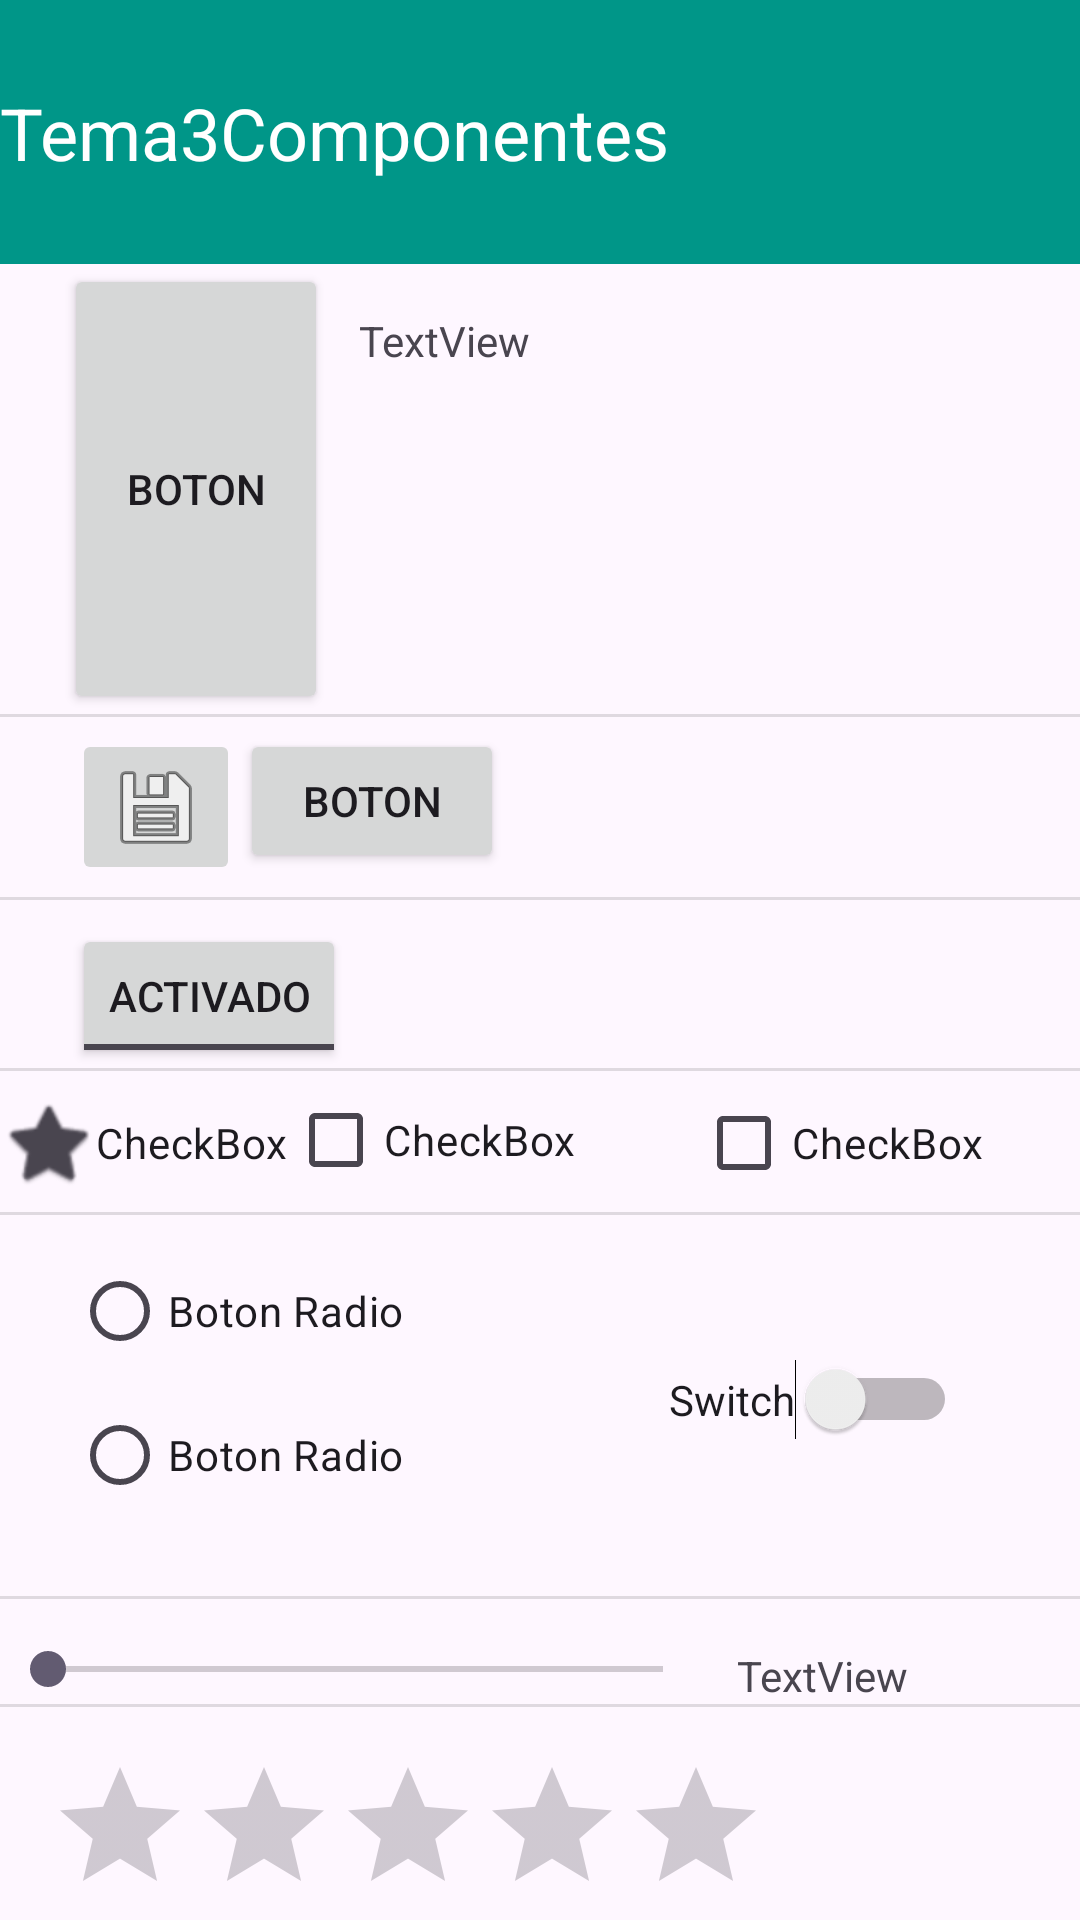

Icons on this 1080px x 1920px Android screen, each with the point to tap as (x=x, y=y):
save: (x=156, y=807)
